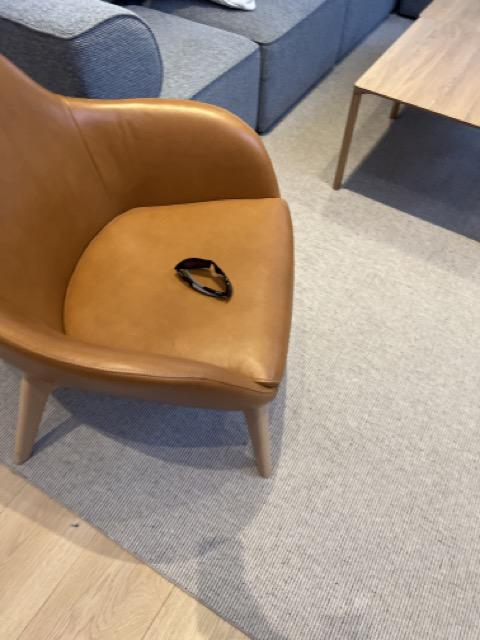Sunglasses: (173, 256, 235, 304)
